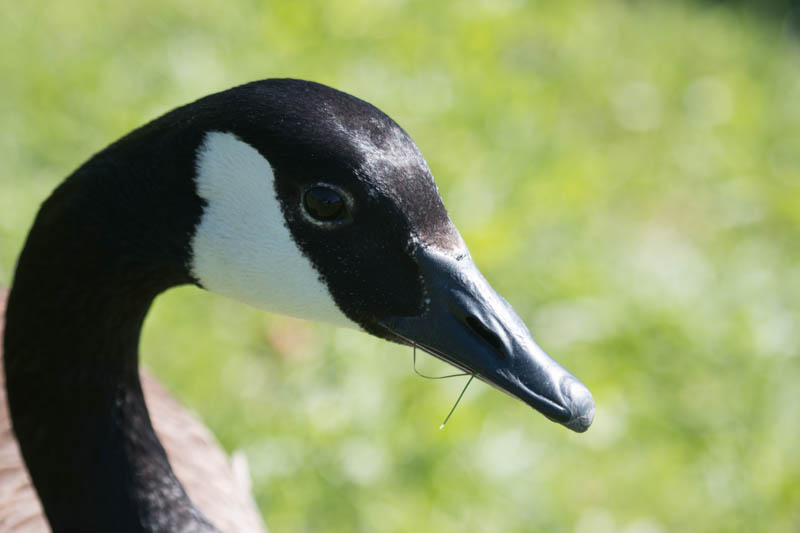goose-head: (153, 78, 597, 435)
